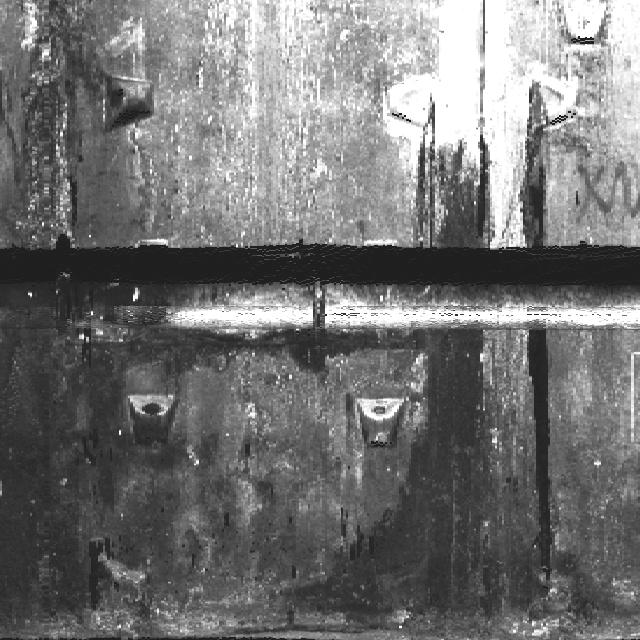leakage: (286, 330, 510, 621), (2, 1, 164, 256), (397, 107, 507, 260), (518, 329, 567, 592), (520, 75, 560, 253)
